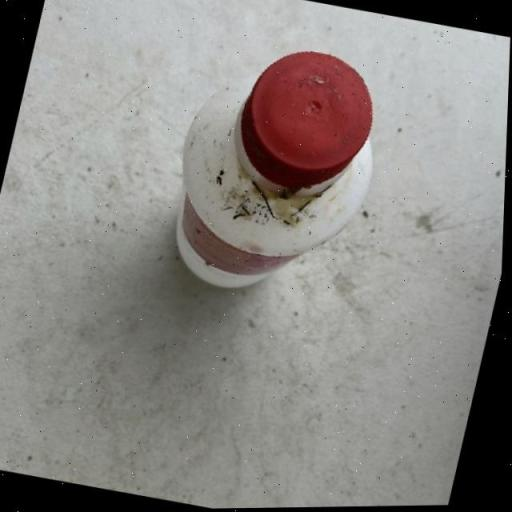plastic: (154, 29, 399, 313)
